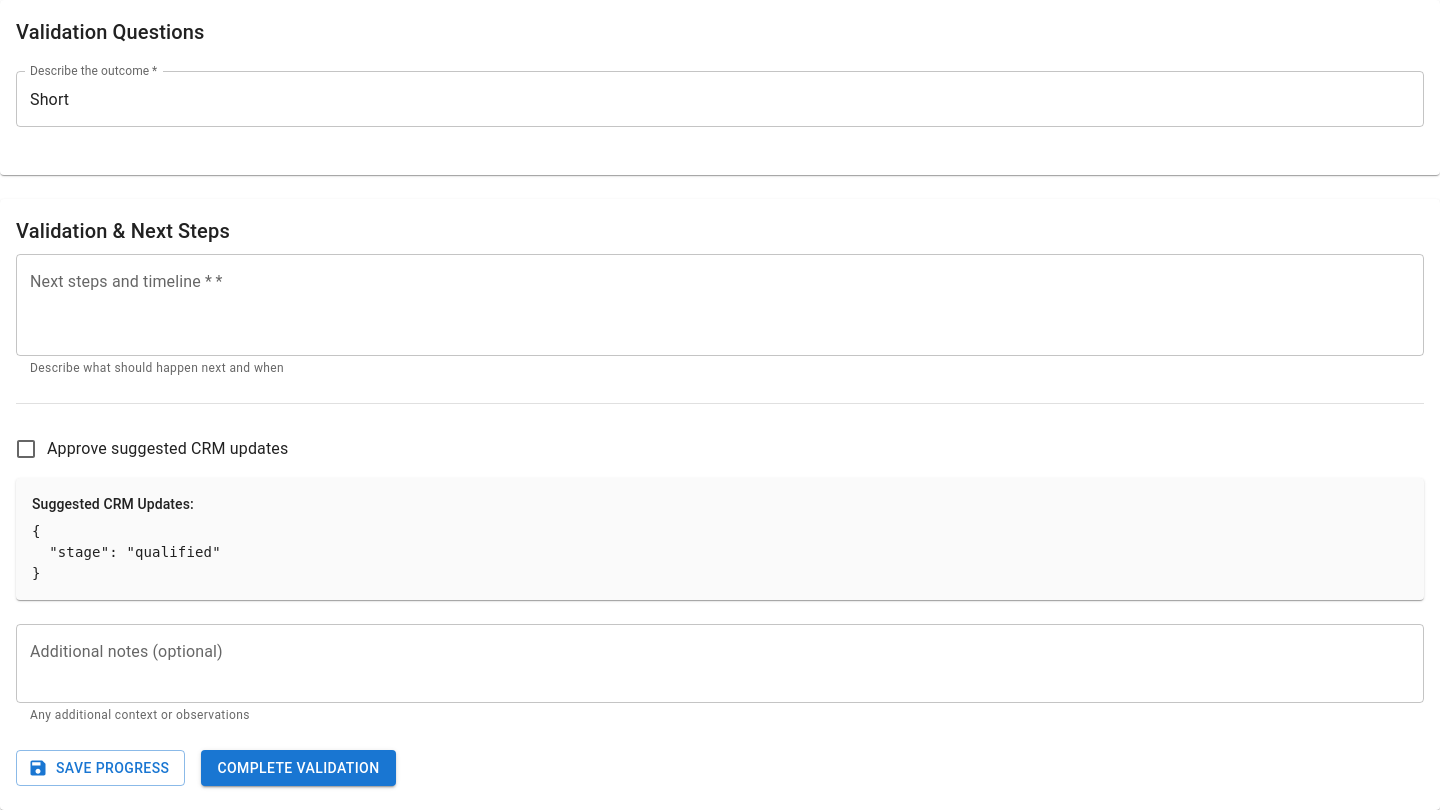
ValidationForm › Form Validation › validates text field minimum length
(page scrolled)
Step 1. Click the button "Complete Validation" → [298, 768], box [201,750,396,786]
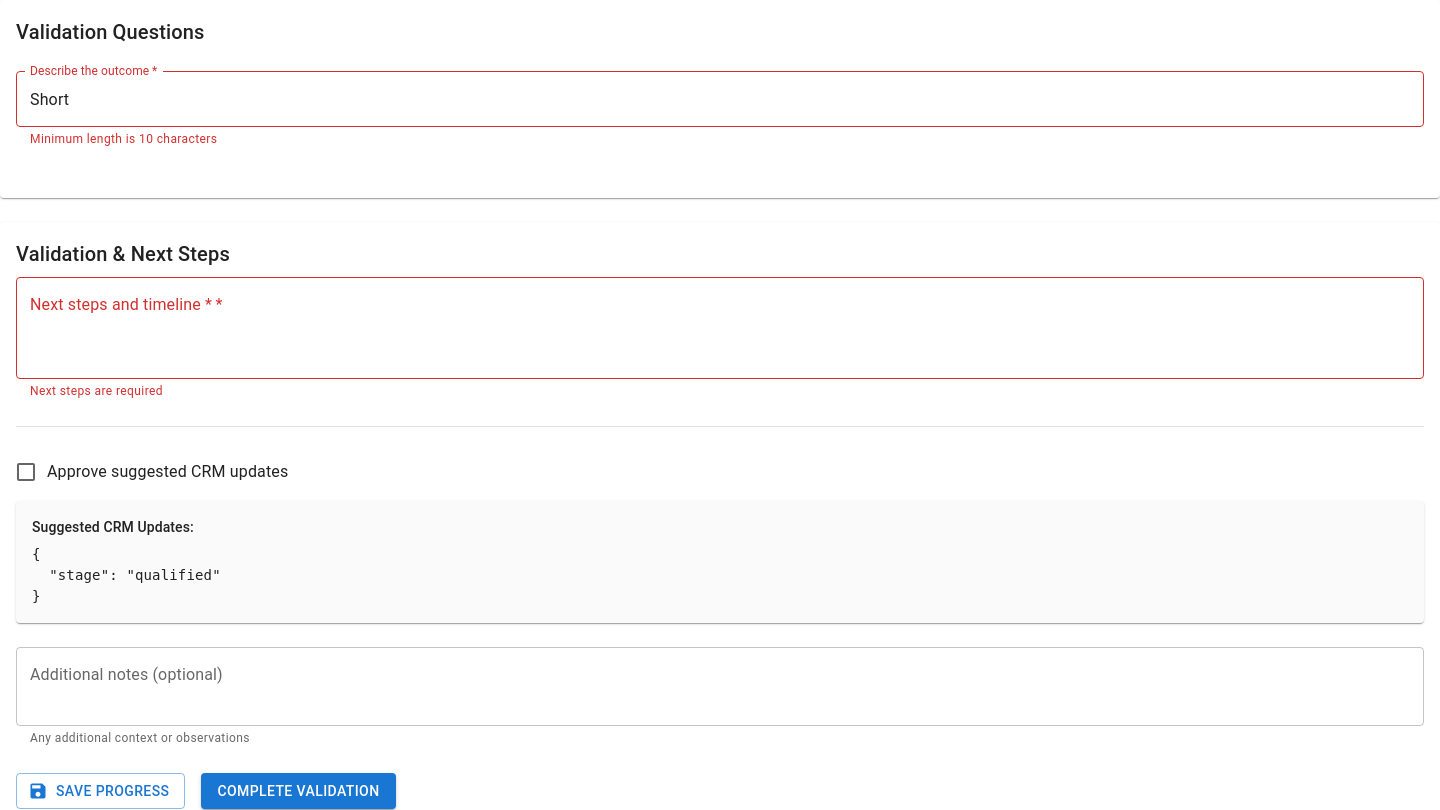
Check: the text "Minimum length is 10 characters" is shown, box [30,132,217,146]
